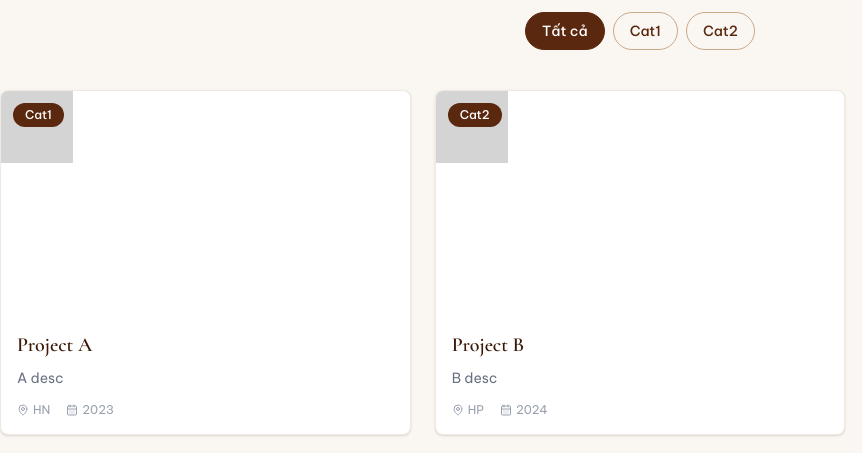
Scenario: US-01: ProjectsListing with category filter › shows all again when "Tất cả" clicked
Click the button "Cat1".
click(645, 31)  # box [613, 12, 678, 50]
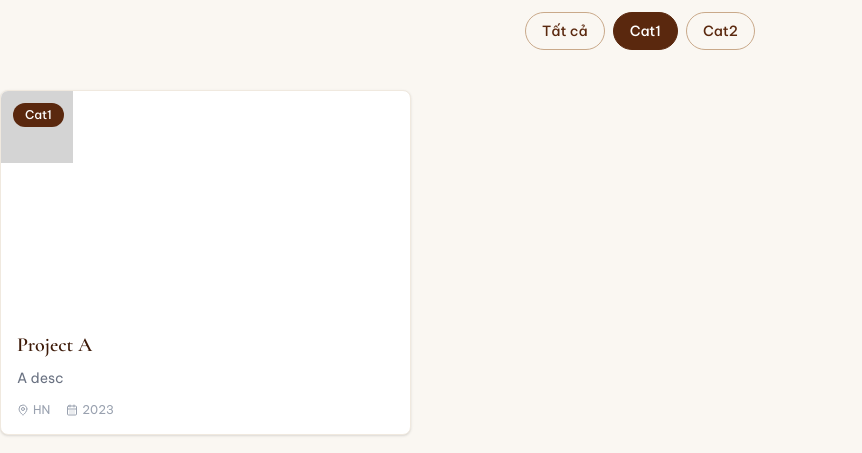
Click the button "Tất cả".
click(565, 31)  # box [525, 12, 605, 50]
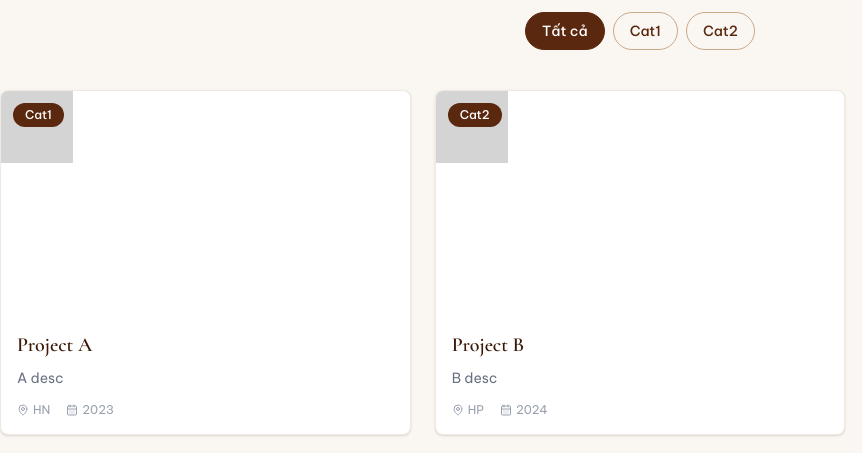
Expected: the heading "Project A" is shown, [17, 333, 92, 357]
Result: the heading "Project B" is shown at [452, 333, 524, 357]
